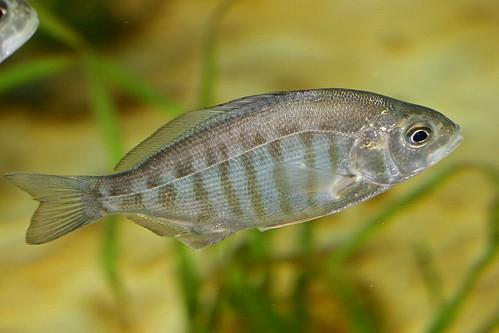Silver Perch: (4, 82, 465, 252)
